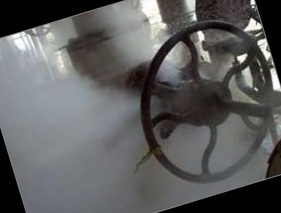smoke: (0, 29, 163, 213)
